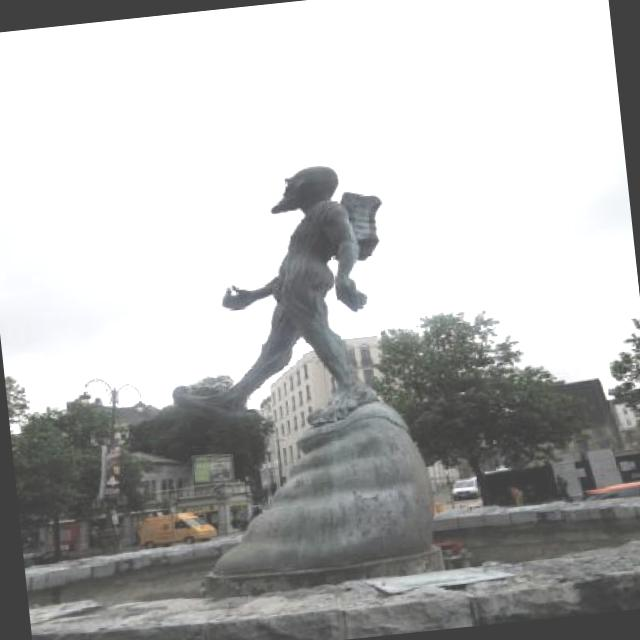Person: (140, 156, 393, 450)
